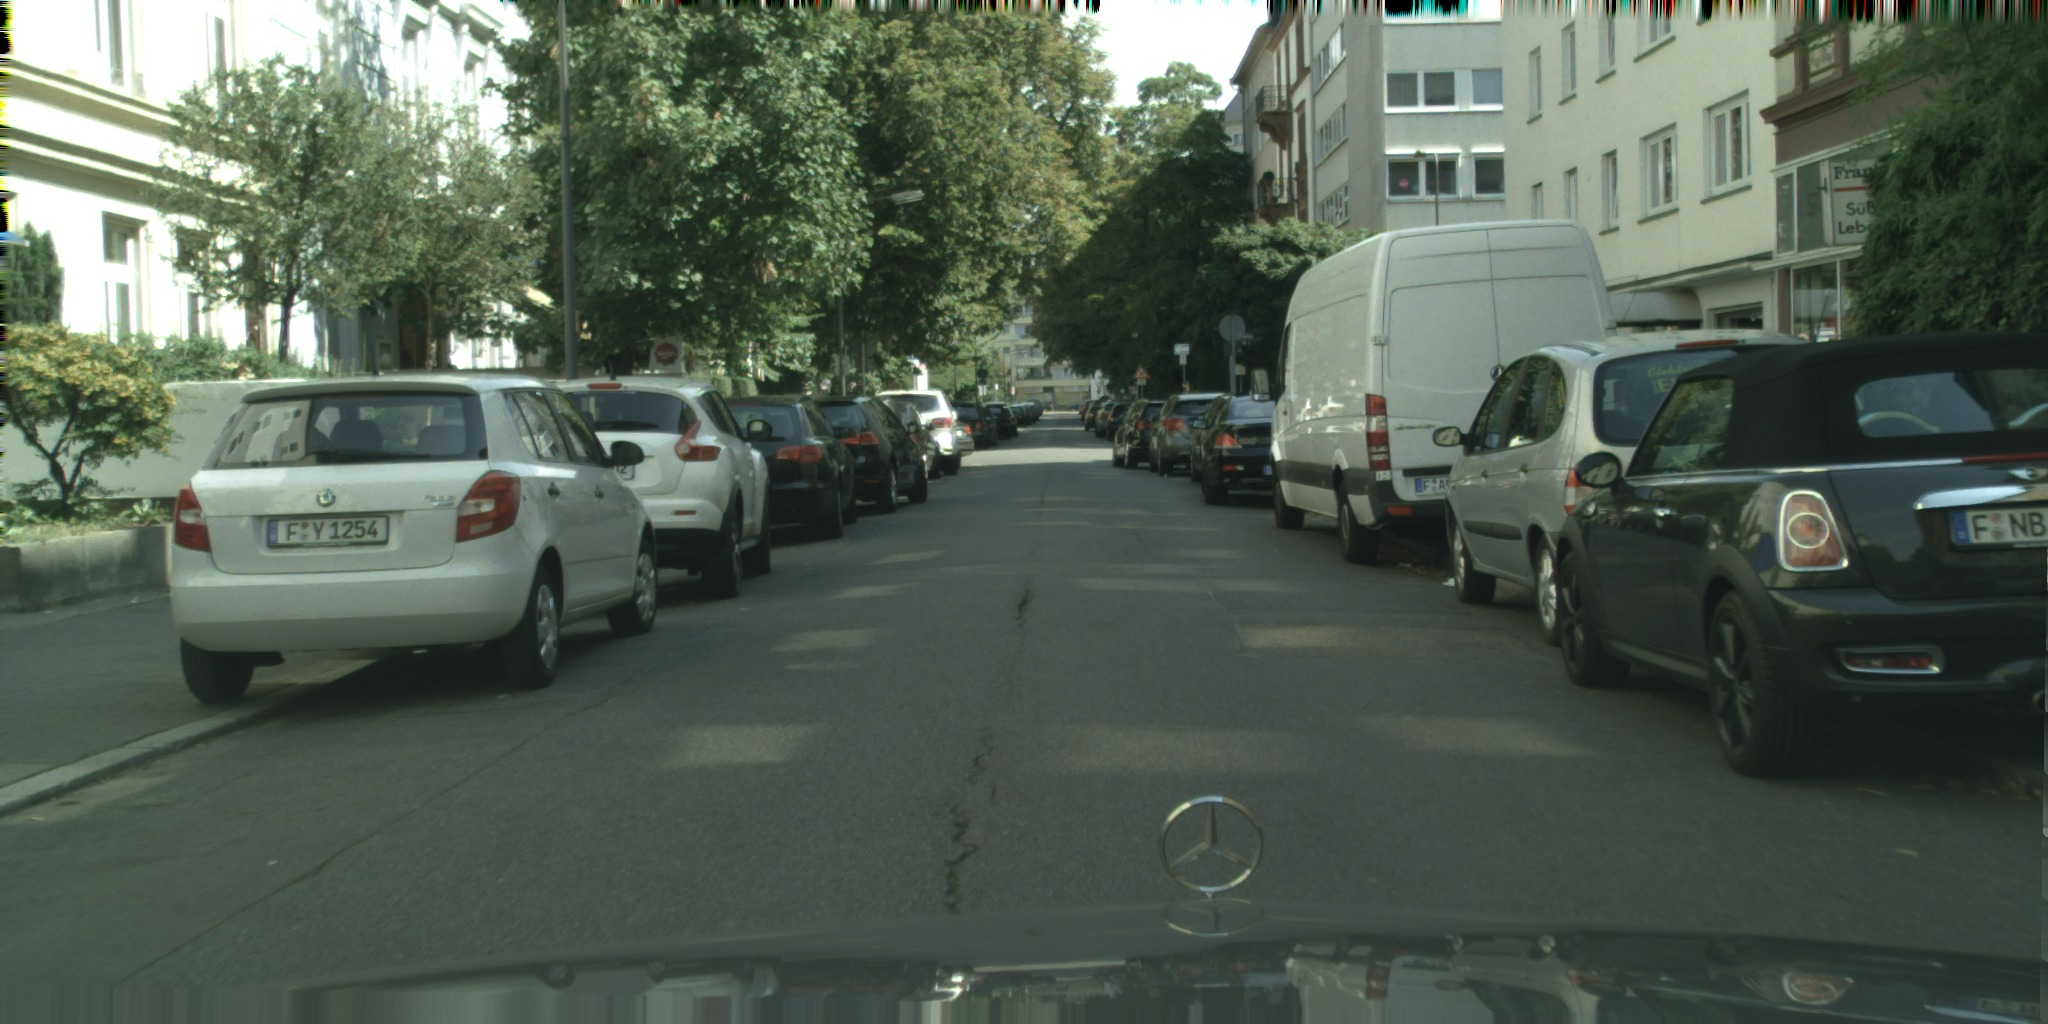car: (1556, 332, 2047, 776), (171, 372, 658, 703), (1251, 219, 1624, 563), (1432, 329, 1823, 645), (545, 360, 771, 597), (718, 394, 856, 537), (799, 396, 927, 512), (1192, 370, 1290, 504), (874, 388, 960, 475), (1148, 393, 1236, 475), (866, 398, 940, 478), (1187, 396, 1247, 483), (1112, 398, 1172, 469), (946, 400, 987, 448), (982, 402, 1012, 438), (946, 421, 974, 456), (1095, 402, 1123, 438), (1106, 404, 1134, 439), (974, 405, 998, 444), (1085, 400, 1112, 431), (999, 406, 1017, 434), (1081, 400, 1098, 421), (1078, 400, 1089, 414), (1037, 402, 1053, 411), (1066, 404, 1084, 411)
